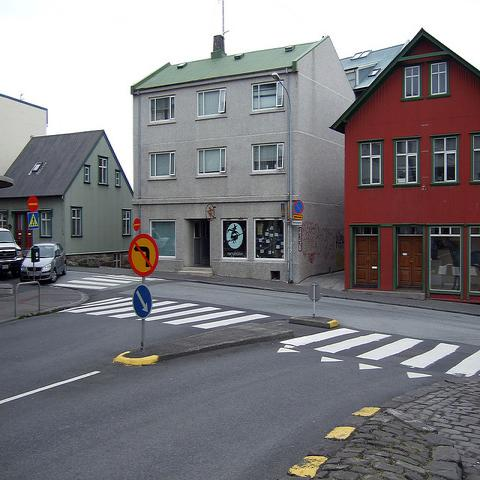car: (20, 242, 67, 283)
truck: (0, 228, 23, 275)
